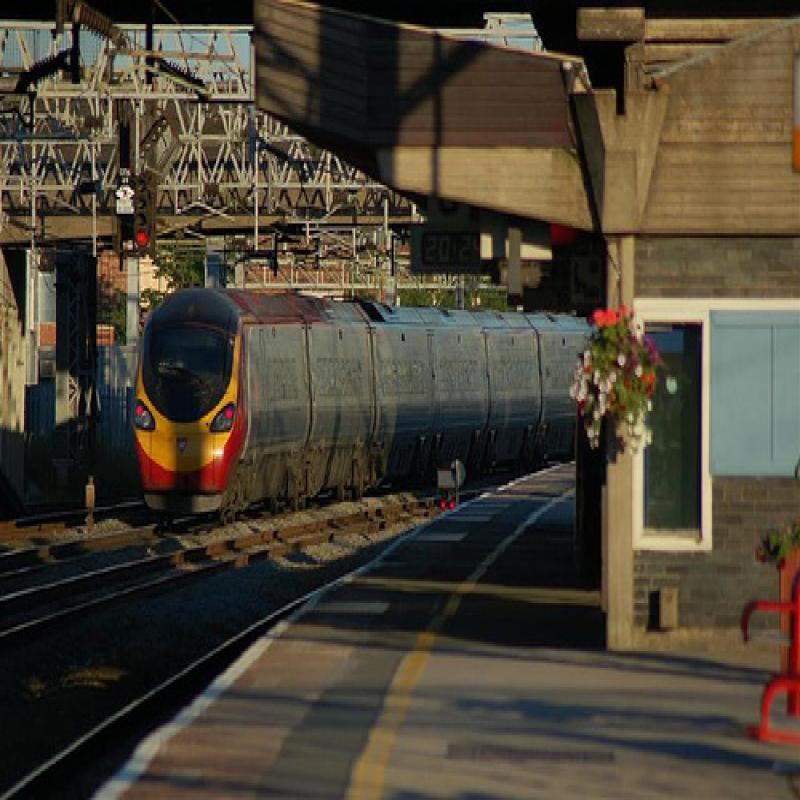train: (127, 278, 577, 518)
